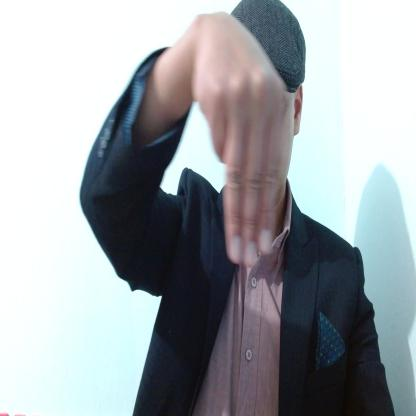M: (196, 13, 285, 263)
